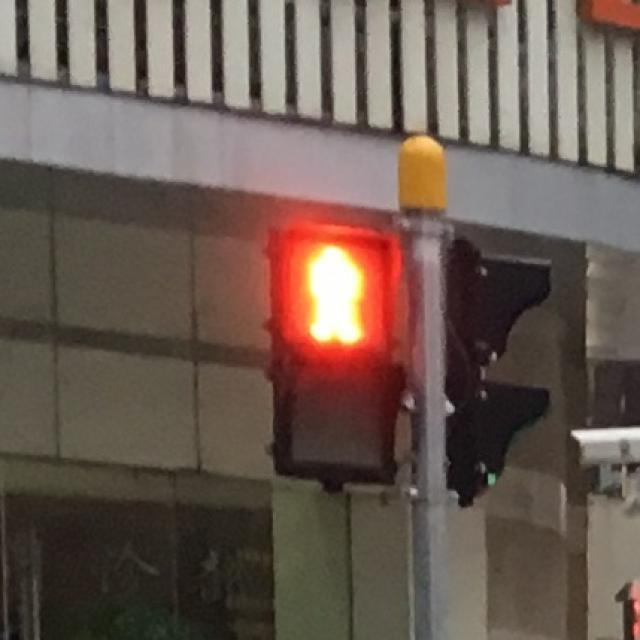red-crossing: (285, 236, 379, 350)
